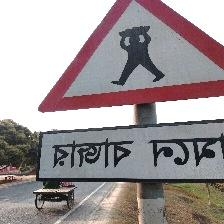Market-in-front: (37, 3, 223, 183)
